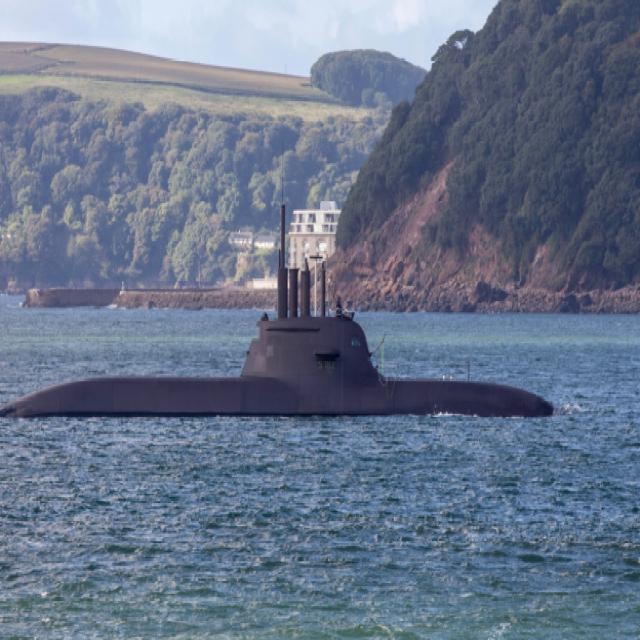submarine: (1, 200, 566, 414)
